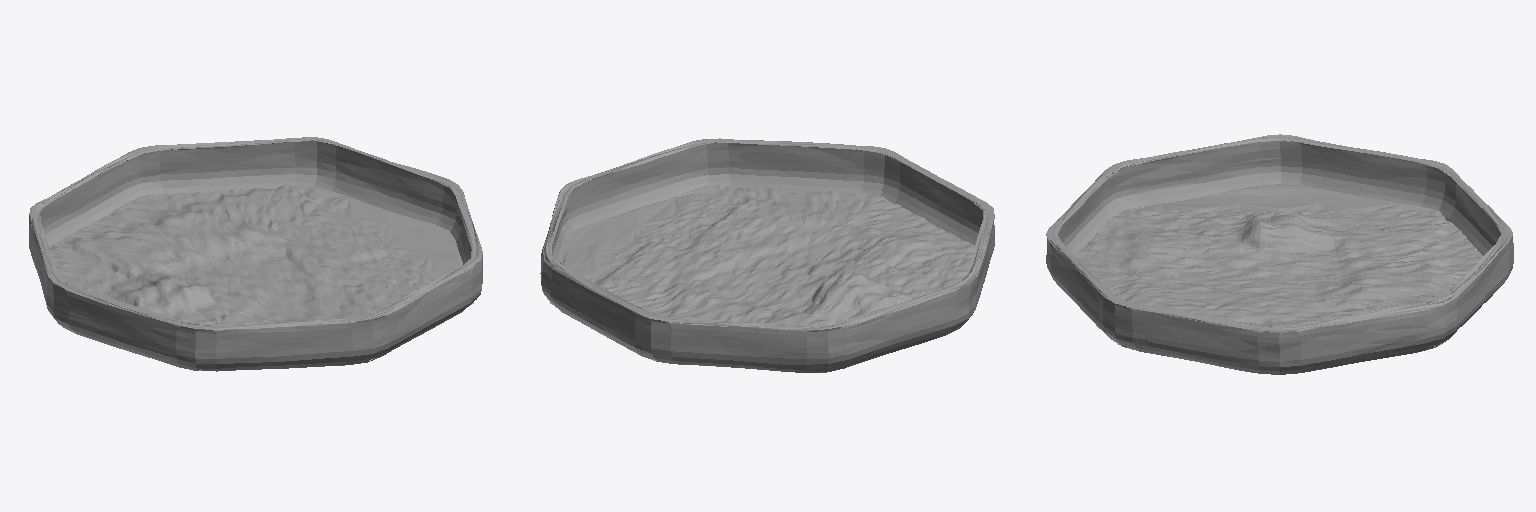
Rendered from arena8.obj.
3 renders of one model, left to right at view 1: azimuth 30°, elevation 25°; view 2: azimuth 150°, elevation 25°; view 3: azimuth 270°, elevation 25°, orthographic.
Parts seen in each view (by area): view 1: Mesh_Mesh; view 2: Mesh_Mesh; view 3: Mesh_Mesh.
Boxes of the visible parts, <box> form: Mesh_Mesh: <box>29,137,482,371</box>; Mesh_Mesh: <box>540,138,994,372</box>; Mesh_Mesh: <box>1046,134,1513,374</box>.
Bounding box in the file's own units: 49.19 × 6.02 × 49.12.